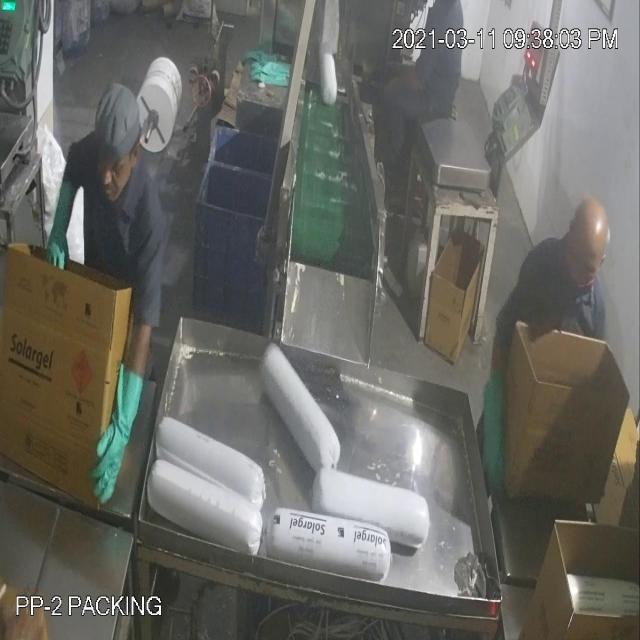Gloves: (29, 62, 492, 433)
